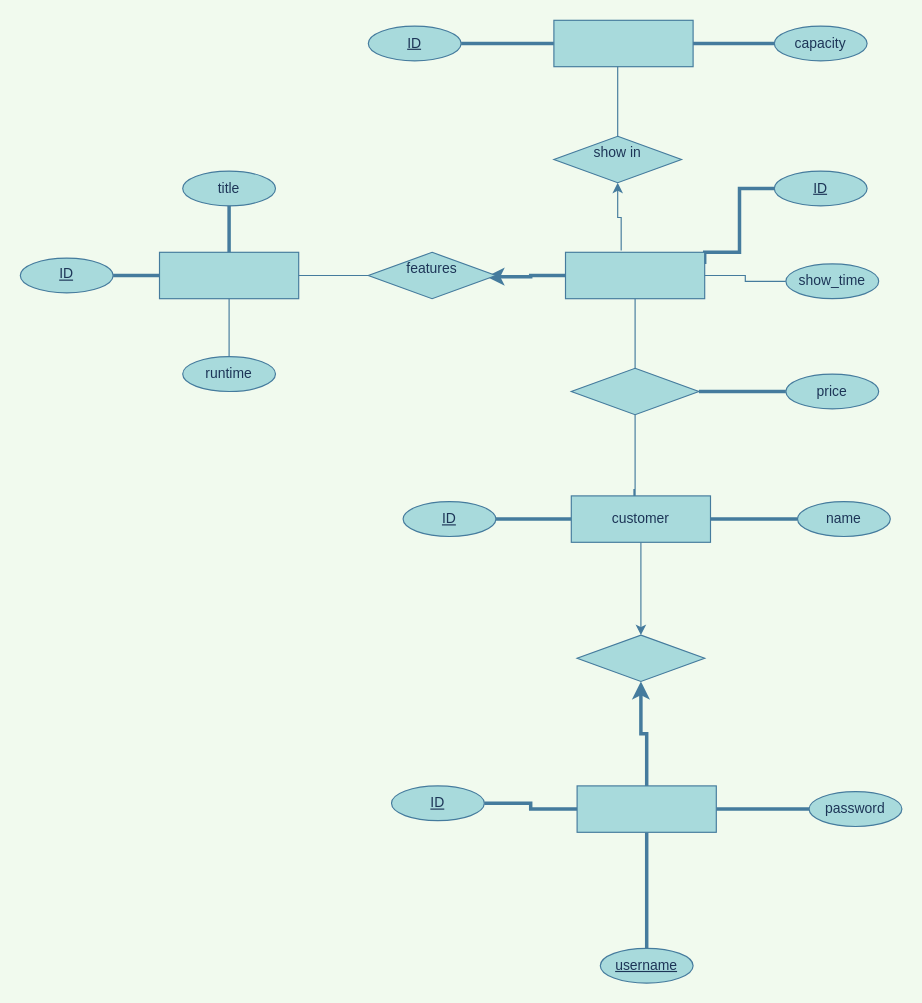
This 922x1003 diagram has some shape labels left out. The box of each missing label's shape, as (x1, y1, x2, y2) in pixels:
Account: (576, 785, 716, 832)
Auditorium: (553, 19, 693, 67)
Event: (564, 251, 705, 299)
Film: (158, 251, 299, 299)
has a: (576, 634, 705, 682)
purchased by: (570, 367, 699, 415)
